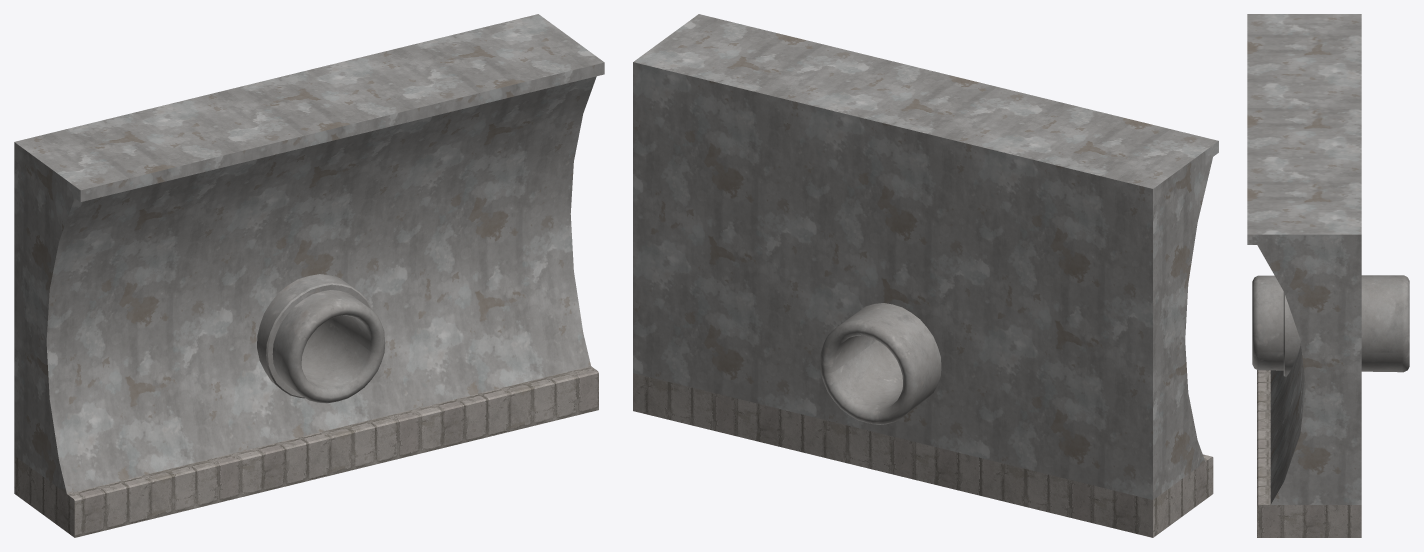
Rendered from SewerSetWall1V1.fbx.
3 views of the same model, side by side, from view 1: azimuth 30°, elevation 25°; view 2: azimuth 150°, elevation 25°; view 3: azimuth 270°, elevation 25° (orthographic). The views are drawn at different scales.
Parts seen in each view (by area): view 1: Box039; view 2: Box039; view 3: Box039.
Part boxes in pixels (x1,y1,x2,y2): Box039: (14,14,604,537); Box039: (633,14,1218,537); Box039: (1247,14,1409,537).
Bounding box in the file's own units: 2500 × 1603 × 778.
